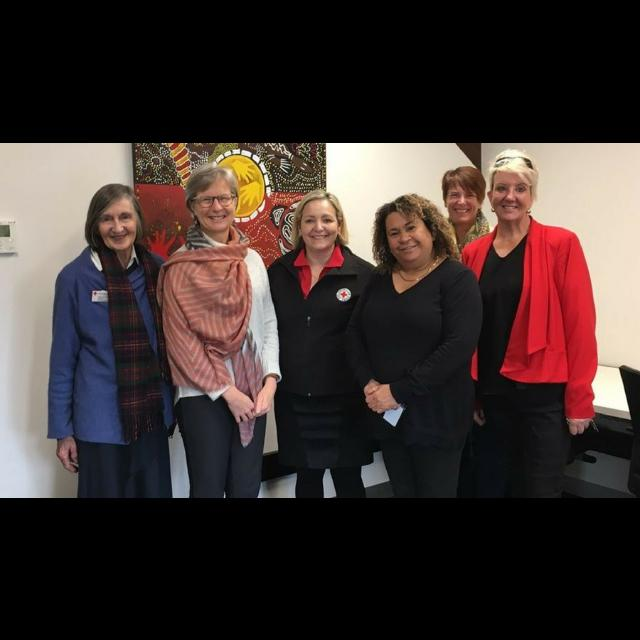head: (382, 197, 440, 269), (189, 162, 239, 232), (91, 183, 140, 249), (486, 156, 536, 220), (296, 191, 344, 251), (444, 168, 484, 224)
